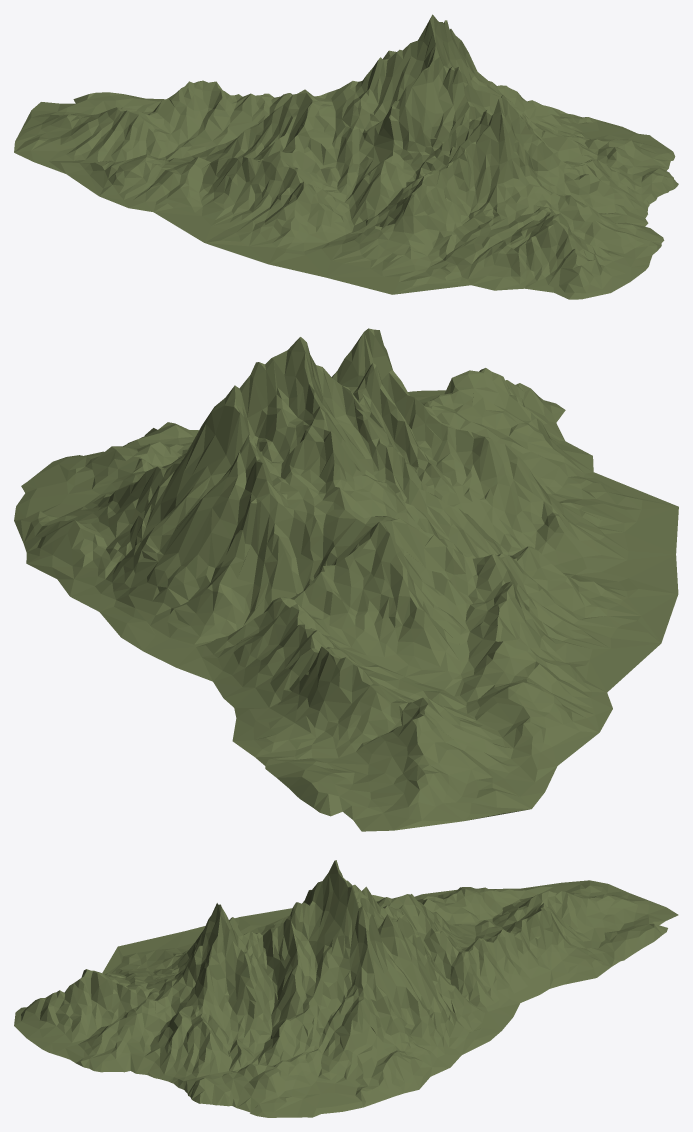
Rendered from SM_Envr_Nature_Mountain_04_01.fbx.
3 renders of one model, top to bottom at view 1: azimuth 30°, elevation 25°; view 2: azimuth 150°, elevation 25°; view 3: azimuth 270°, elevation 25°, orthographic. The views are drawn at different scales.
Parts seen in each view (by area): view 1: SM_Envr_Nature_Mountain_04_01; view 2: SM_Envr_Nature_Mountain_04_01; view 3: SM_Envr_Nature_Mountain_04_01.
Boxes of the visible parts, x1,y1,x2,y2 form: SM_Envr_Nature_Mountain_04_01: [14, 14, 678, 299]; SM_Envr_Nature_Mountain_04_01: [14, 328, 678, 831]; SM_Envr_Nature_Mountain_04_01: [14, 860, 678, 1117].
Bounding box in the file's own units: 104517 × 32641 × 123612.
